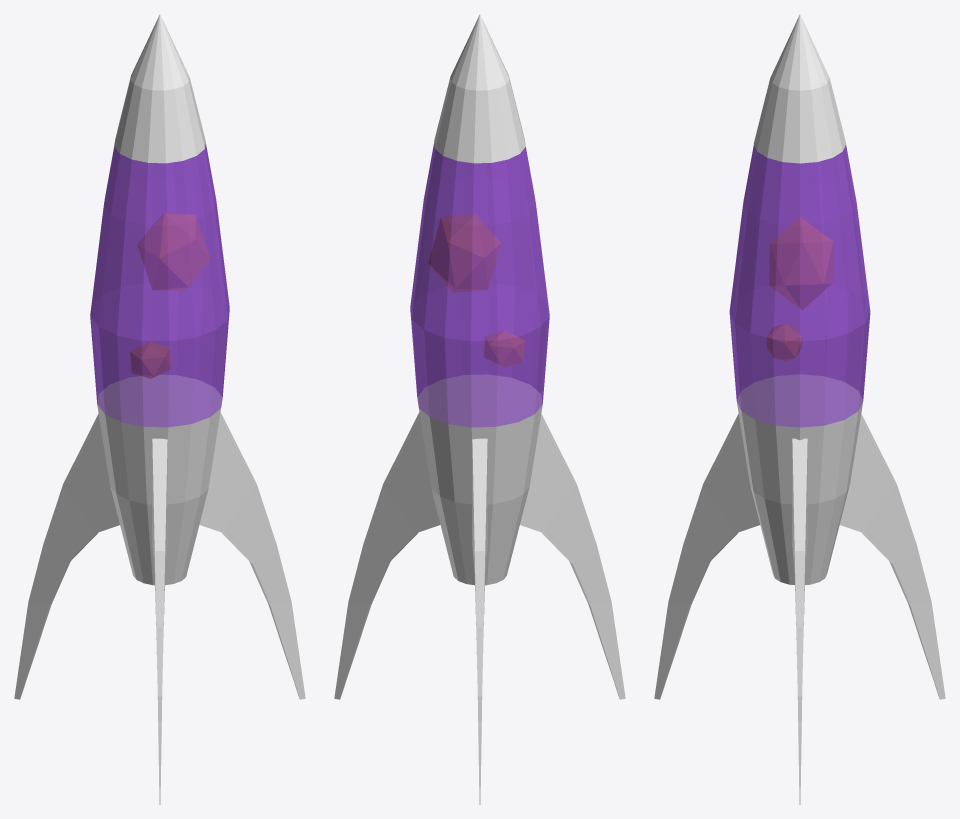
Rendered from lavalamp.obj.
The picture shows the model from 3 angles, left to right: view 1: azimuth 30°, elevation 25°; view 2: azimuth 150°, elevation 25°; view 3: azimuth 270°, elevation 25°; orthographic projection.
Parts seen in each view (by area): view 1: Glass, Leg, Base, Cone, Bubbles; view 2: Glass, Leg, Base, Cone, Bubbles; view 3: Glass, Leg, Base, Cone, Bubbles.
Part boxes in pixels (bbox=[...]): Glass: bbox=[90, 143, 229, 427]; Leg: bbox=[14, 412, 305, 804]; Base: bbox=[97, 375, 222, 585]; Cone: bbox=[114, 14, 205, 163]; Bubbles: bbox=[130, 214, 209, 378]; Glass: bbox=[410, 143, 549, 427]; Leg: bbox=[334, 412, 625, 804]; Base: bbox=[417, 374, 542, 585]; Cone: bbox=[434, 14, 525, 163]; Bubbles: bbox=[429, 214, 524, 367]; Glass: bbox=[729, 145, 870, 427]; Leg: bbox=[654, 414, 945, 804]; Base: bbox=[736, 374, 863, 584]; Cone: bbox=[753, 14, 846, 163]; Bubbles: bbox=[767, 217, 832, 360].
Bounding box in the file's own units: 3.72 × 11.7 × 4.29.
Materials: 2 (2 with a texture image).
